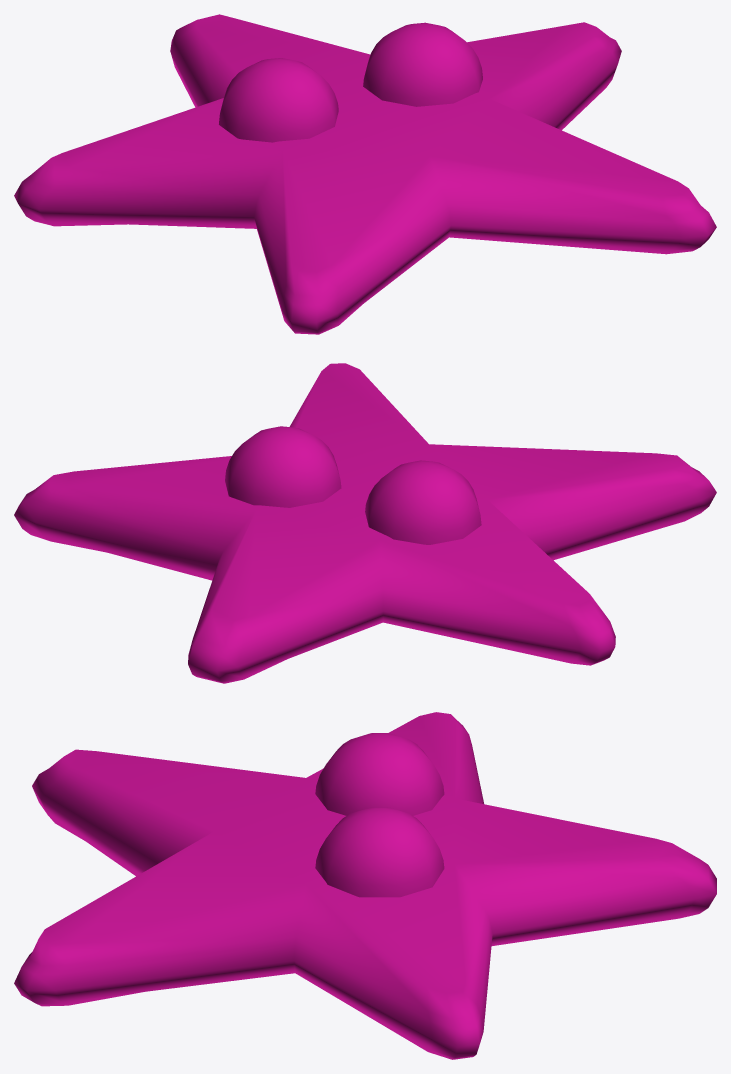
The model's file is StarfishTrophy.fbx.
3 views of the same model, one above another, from view 1: azimuth 30°, elevation 25°; view 2: azimuth 150°, elevation 25°; view 3: azimuth 270°, elevation 25° (orthographic). The views are drawn at different scales.
Visible parts, largest first — view 1: Starfish; view 2: Starfish; view 3: Starfish.
Part boxes in pixels (x1,y1,x2,y2): Starfish: (14,14,716,334); Starfish: (14,363,716,683); Starfish: (14,712,716,1059).
Size of the model in its own units: 238 by 47.25 by 226.
